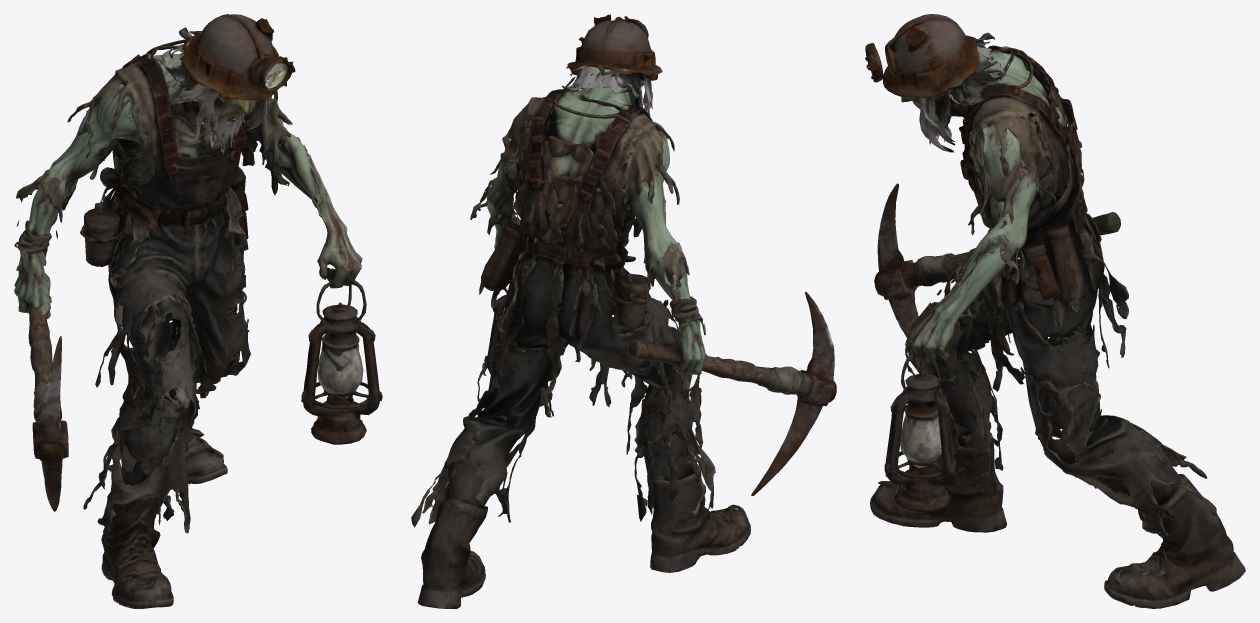
Rendered from рудокоп.glb.
The picture shows the model from 3 angles, left to right: view 1: azimuth 30°, elevation 25°; view 2: azimuth 150°, elevation 25°; view 3: azimuth 270°, elevation 25°; orthographic projection. The views are drawn at different scales.
Parts seen in each view (by area): view 1: geometry_0; view 2: geometry_0; view 3: geometry_0.
Boxes of the visible parts, left/top/right/bottom form: geometry_0: left=14, top=14, right=382, bottom=608; geometry_0: left=411, top=14, right=836, bottom=608; geometry_0: left=865, top=14, right=1245, bottom=608.
Bounding box in the file's own units: 0.6681 × 1 × 0.6297.
1 material, 1 textured.
